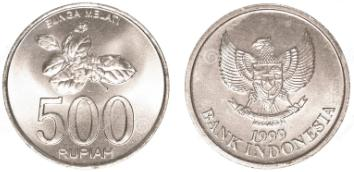coin_500_e2003: (184, 2, 352, 170), (1, 2, 171, 167)
